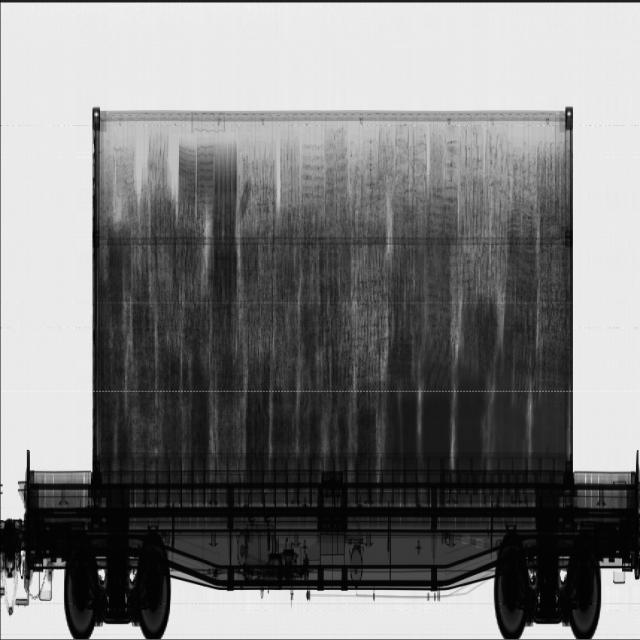shoes: (376, 122, 568, 207), (98, 127, 177, 252), (276, 128, 346, 198)
textiles: (237, 138, 570, 388)
